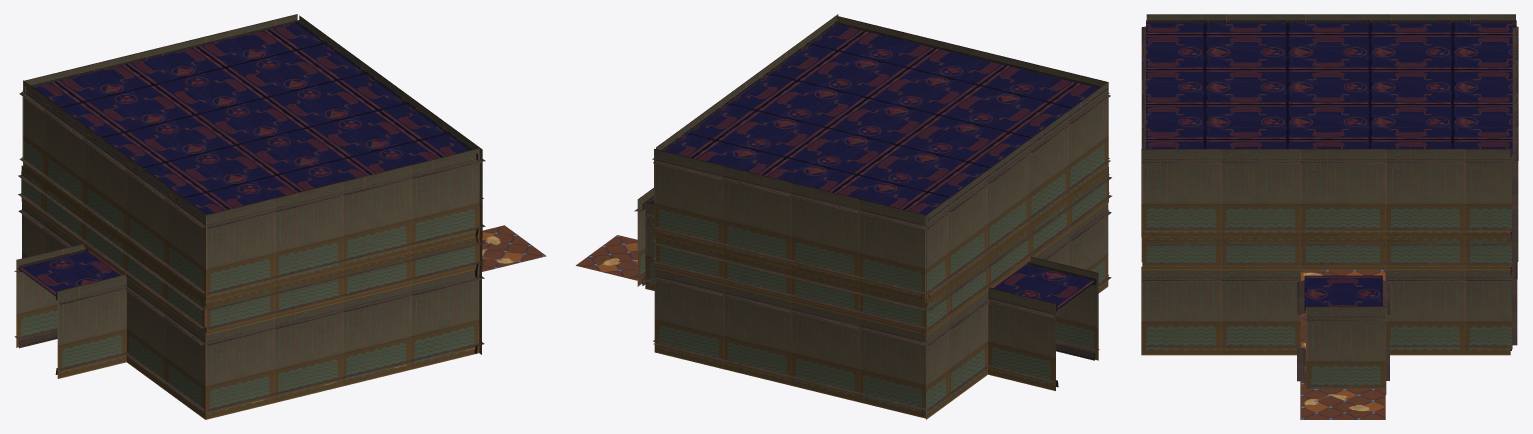
Rendered from pm-layout-floor-05.glb.
3 views of the same model, side by side, from view 1: azimuth 30°, elevation 25°; view 2: azimuth 150°, elevation 25°; view 3: azimuth 270°, elevation 25° (orthographic).
Visible parts, largest first — view 1: Layout_Floor05; view 2: Layout_Floor05; view 3: Layout_Floor05.
Boxes of the visible parts, box(x1,y1,x2,y2) form: Layout_Floor05: box(14, 14, 546, 419); Layout_Floor05: box(576, 14, 1111, 419); Layout_Floor05: box(1141, 14, 1518, 419).
Size of the model in its own units: 30.95 by 12.48 by 20.63.
3 materials, 3 textured.
